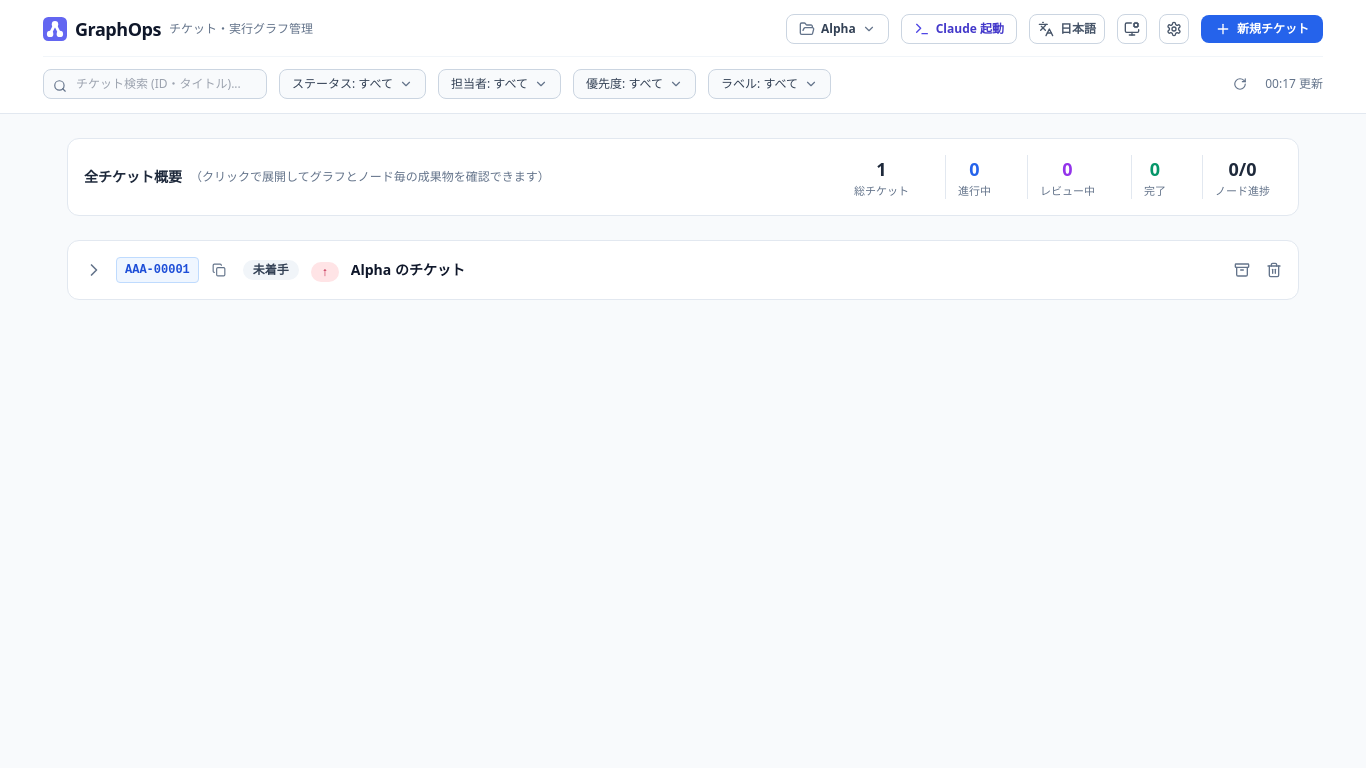
project switcher accessibility › aria-expanded › goes back to "false" when a project is chosen from the menu
Expected: the text "AAA-00001" is shown, [116,257,199,283]
What coordinates should you click on to do the following:
click the button "Alpha"
I would click on:
 (837, 29)
Its box is [786,14,889,44].
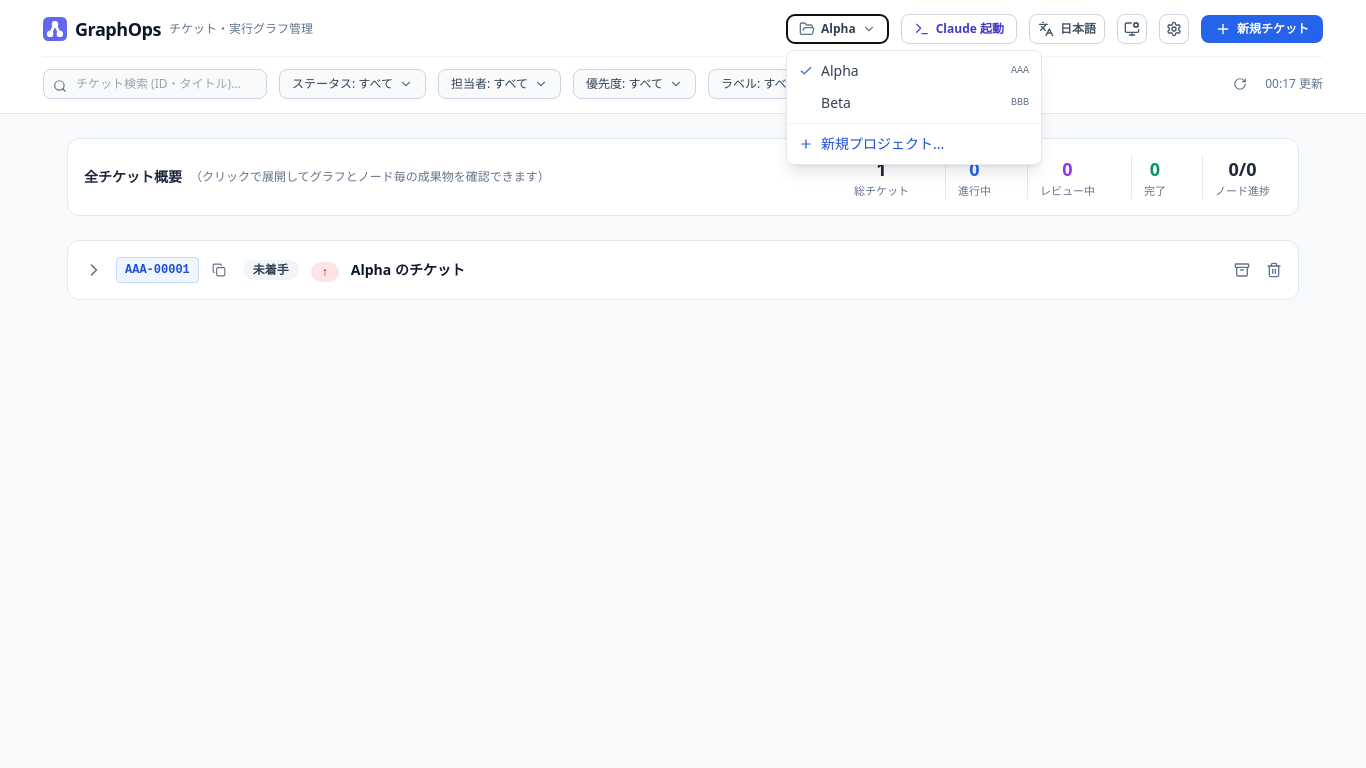
What coordinates should you click on to do the following:
click the button "Beta BBB"
I would click on:
 (914, 103)
Its box is [787,87,1041,119].
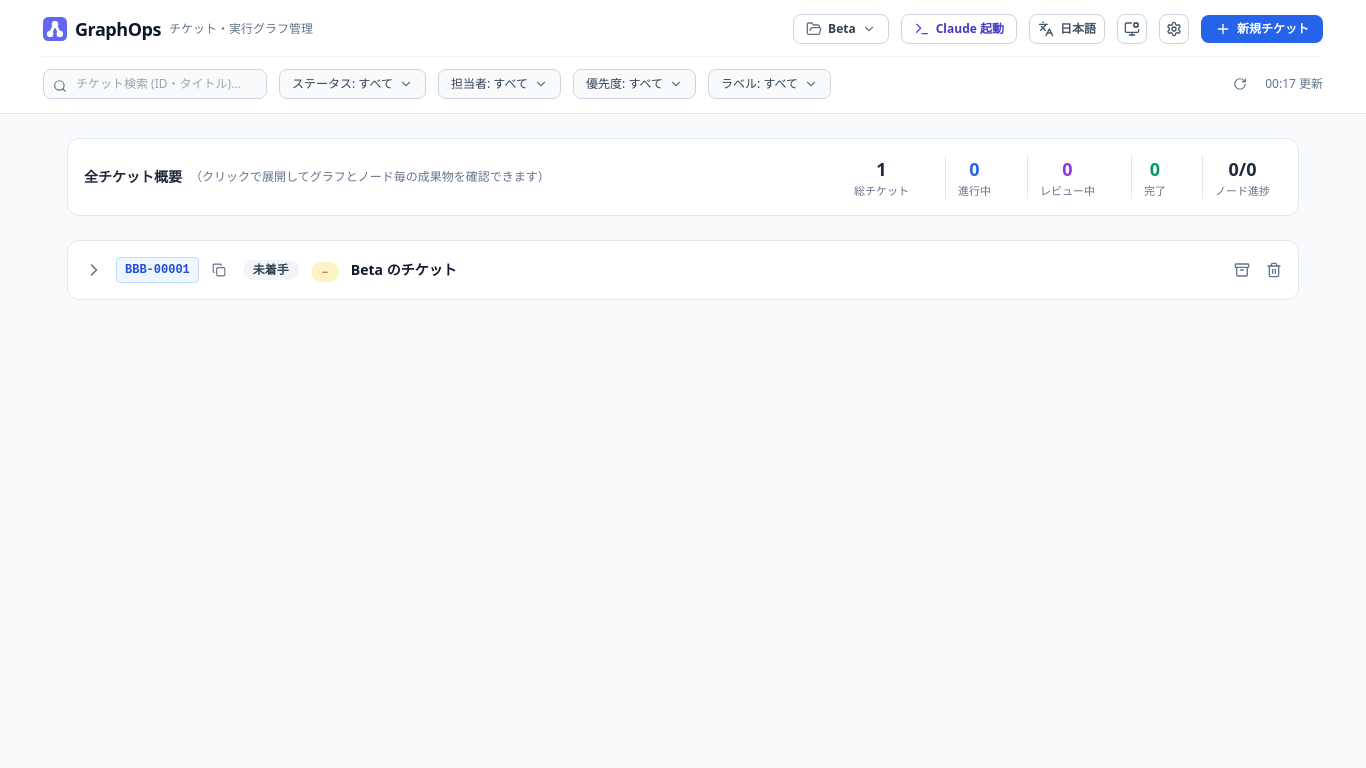
Expected: the text "BBB-00001" is shown, [116,257,199,283]
Expected: the dialog "プロジェクトの切り替え" is gone
Expected: the button "Beta" is collapsed, [793,14,889,44]
